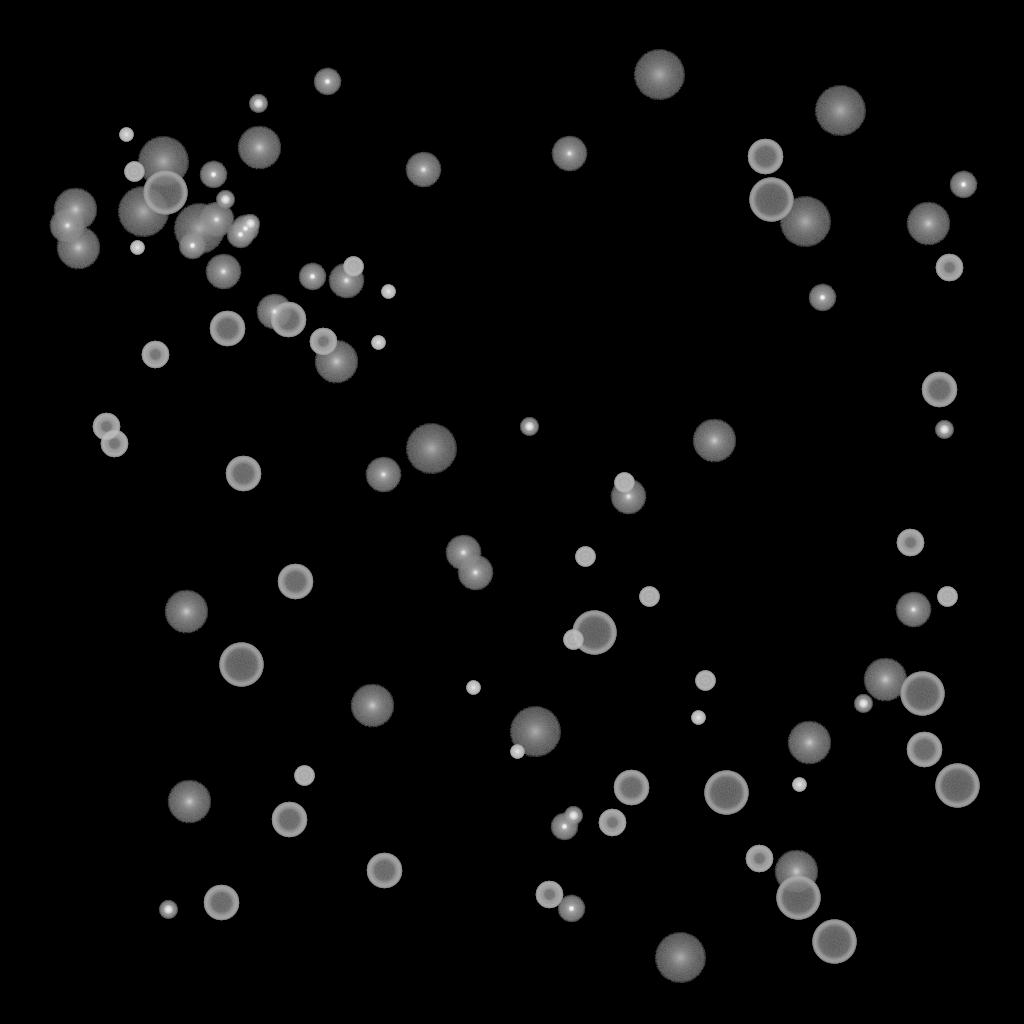depth:-10: (178, 232, 206, 260), (550, 813, 578, 841), (949, 171, 977, 199), (231, 215, 259, 243), (199, 161, 227, 189), (226, 221, 254, 249), (808, 284, 836, 312), (557, 895, 585, 923), (313, 68, 341, 96), (298, 263, 326, 291)
depth:-20: (854, 695, 872, 713), (520, 418, 538, 436), (935, 421, 953, 439), (216, 191, 234, 209), (564, 807, 582, 825), (159, 901, 177, 919), (241, 215, 259, 233), (249, 95, 267, 113)
depth:-30: (466, 681, 480, 695), (510, 745, 524, 759), (792, 778, 806, 792), (119, 128, 133, 142), (381, 285, 395, 299), (130, 241, 144, 255), (371, 336, 385, 350), (691, 711, 705, 725)
depth:-40: (614, 473, 634, 493), (294, 766, 314, 786), (343, 257, 363, 277), (563, 630, 583, 650), (575, 547, 595, 567), (639, 587, 659, 607), (937, 587, 957, 607), (124, 162, 144, 182), (695, 671, 715, 691)
depth:-50: (935, 254, 963, 282), (598, 809, 626, 837), (535, 881, 563, 909), (896, 529, 924, 557), (745, 845, 773, 873), (309, 328, 337, 356), (100, 430, 128, 458), (141, 341, 169, 369), (92, 413, 120, 441)
depth:-60: (203, 885, 239, 921), (921, 372, 957, 408), (270, 302, 306, 338), (906, 732, 942, 768), (366, 853, 402, 889), (277, 564, 313, 600), (613, 770, 649, 806), (209, 311, 245, 347), (747, 139, 783, 175), (271, 802, 307, 838), (225, 456, 261, 492)
depth:-70: (935, 764, 979, 808), (704, 771, 748, 815), (143, 171, 187, 215), (812, 920, 856, 964), (776, 876, 820, 920), (219, 643, 263, 687), (572, 611, 616, 655), (900, 672, 944, 716), (749, 178, 793, 222)
depth:0: (198, 202, 234, 238), (610, 479, 646, 515), (445, 535, 481, 571), (405, 152, 441, 188), (205, 254, 241, 290), (457, 555, 493, 591), (328, 263, 364, 299), (365, 457, 401, 493), (551, 136, 587, 172), (49, 208, 85, 244), (256, 294, 292, 330), (895, 592, 931, 628)
depth:10: (314, 340, 358, 384), (906, 202, 950, 246), (692, 419, 736, 463), (863, 658, 907, 702), (774, 850, 818, 894), (164, 590, 208, 634), (237, 126, 281, 170), (56, 226, 100, 270), (350, 684, 394, 728), (167, 780, 211, 824), (787, 721, 831, 765), (53, 188, 97, 232)
depth:20: (633, 50, 685, 100), (173, 204, 225, 254), (405, 424, 457, 474), (779, 197, 831, 247), (654, 933, 706, 983), (117, 187, 169, 237), (137, 137, 189, 187), (509, 707, 561, 757), (814, 86, 866, 136)
